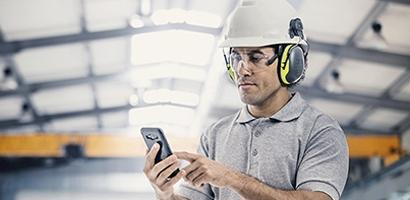helmet: (216, 0, 308, 51)
no_wear: (195, 109, 349, 200)
